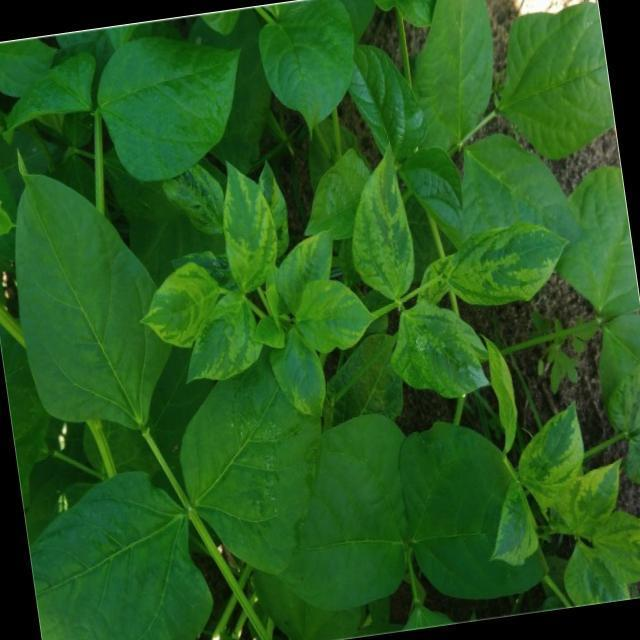Mosaic Virus: (443, 218, 572, 316), (388, 297, 490, 413), (349, 154, 421, 302), (210, 162, 278, 294), (514, 394, 587, 501), (140, 263, 226, 353), (193, 292, 265, 386), (276, 214, 342, 316), (292, 284, 378, 362), (268, 322, 332, 422), (560, 541, 630, 608), (486, 488, 544, 564), (569, 462, 630, 534), (597, 508, 640, 588)
